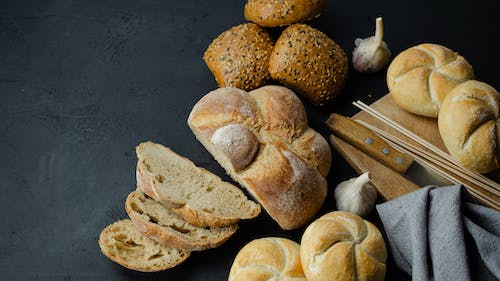knife: (323, 112, 454, 189)
